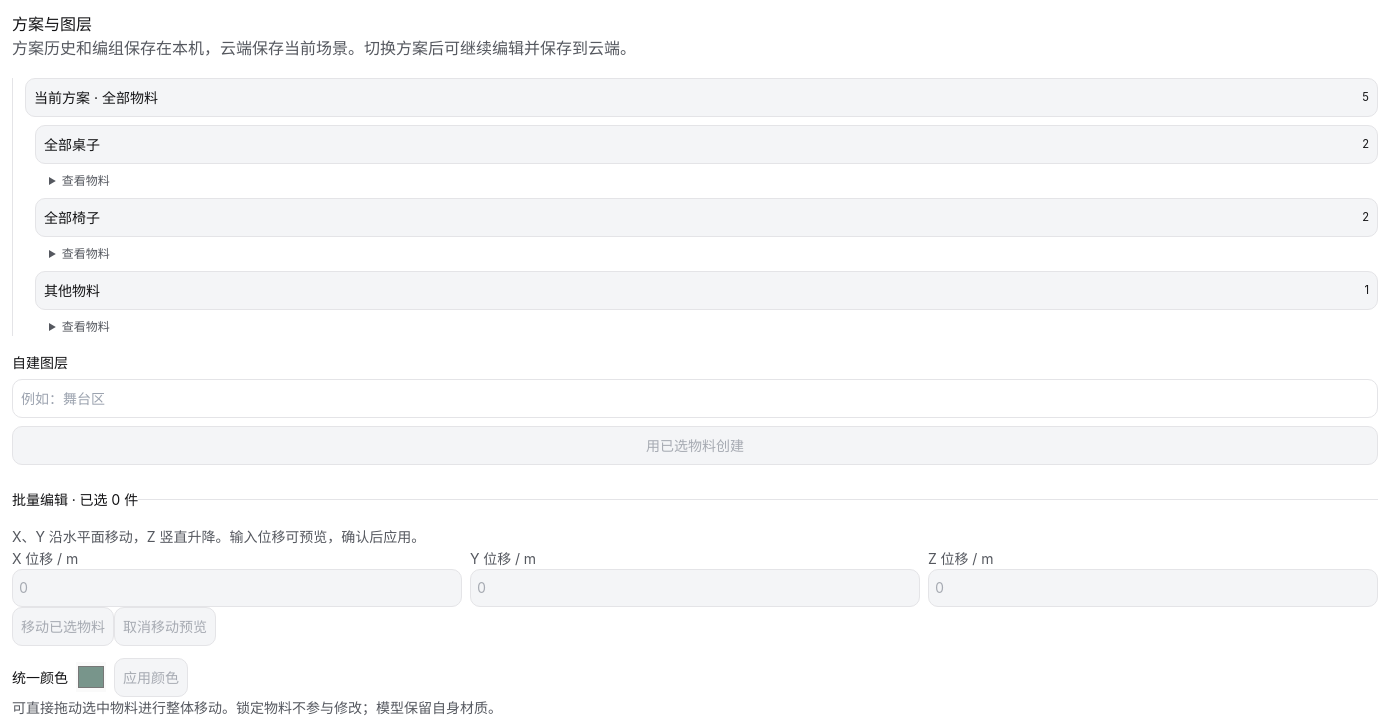
Test: previews horizontal Y and vertical Z without saving, then applies the displayed displacement once
Step 1. Click the button "全部椅子 2" → (72, 217), box [35,198,1378,237]
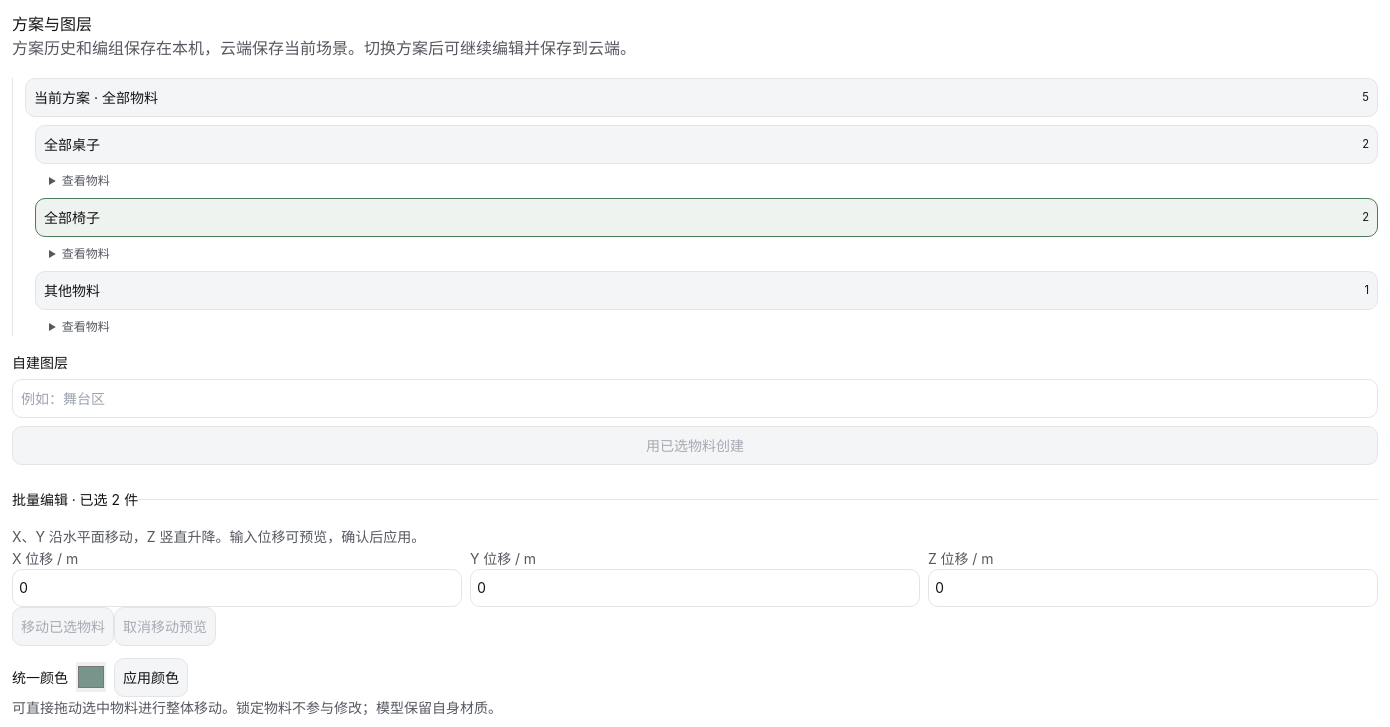
Step 2. Replace the text in the number field named "图层 Y 位移" with "0.2" → (695, 588), box [470,569,920,607]
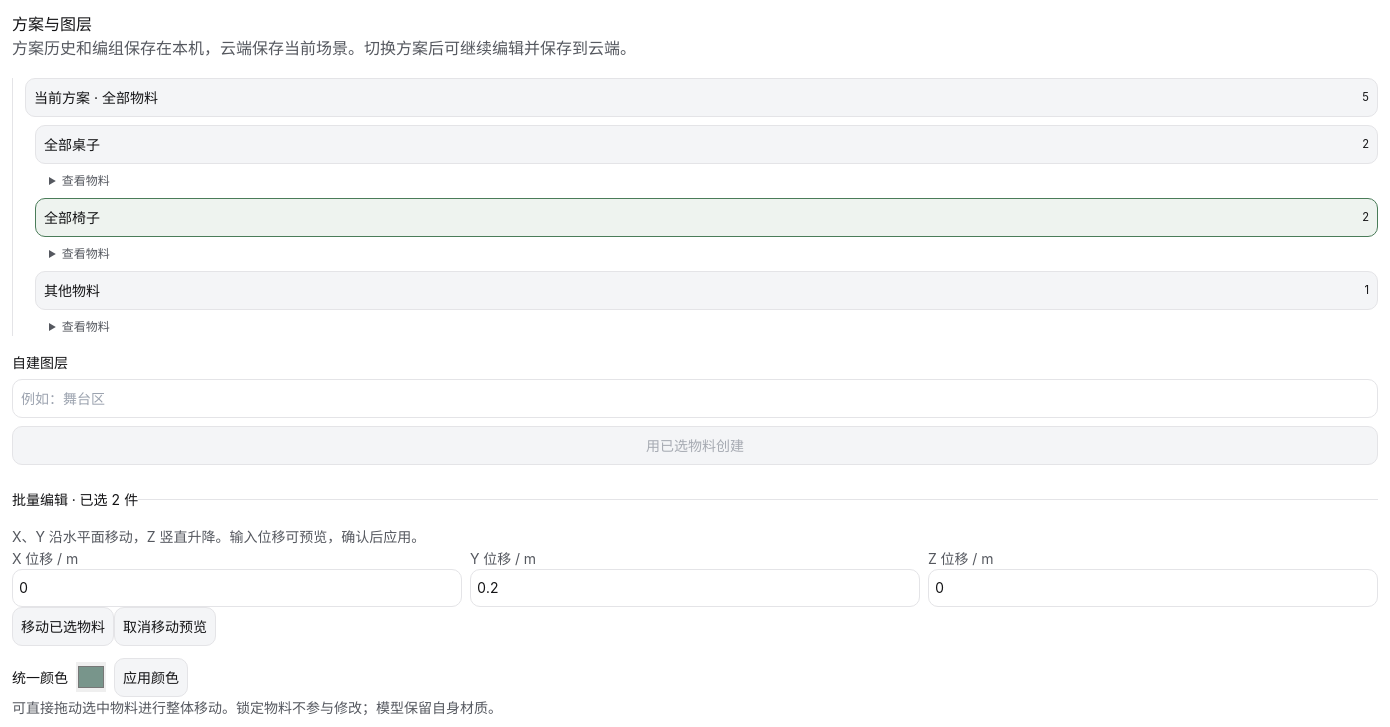
Step 3. Replace the text in the number field named "图层 Z 位移" with "0.5" → (1153, 588), box [928,569,1378,607]
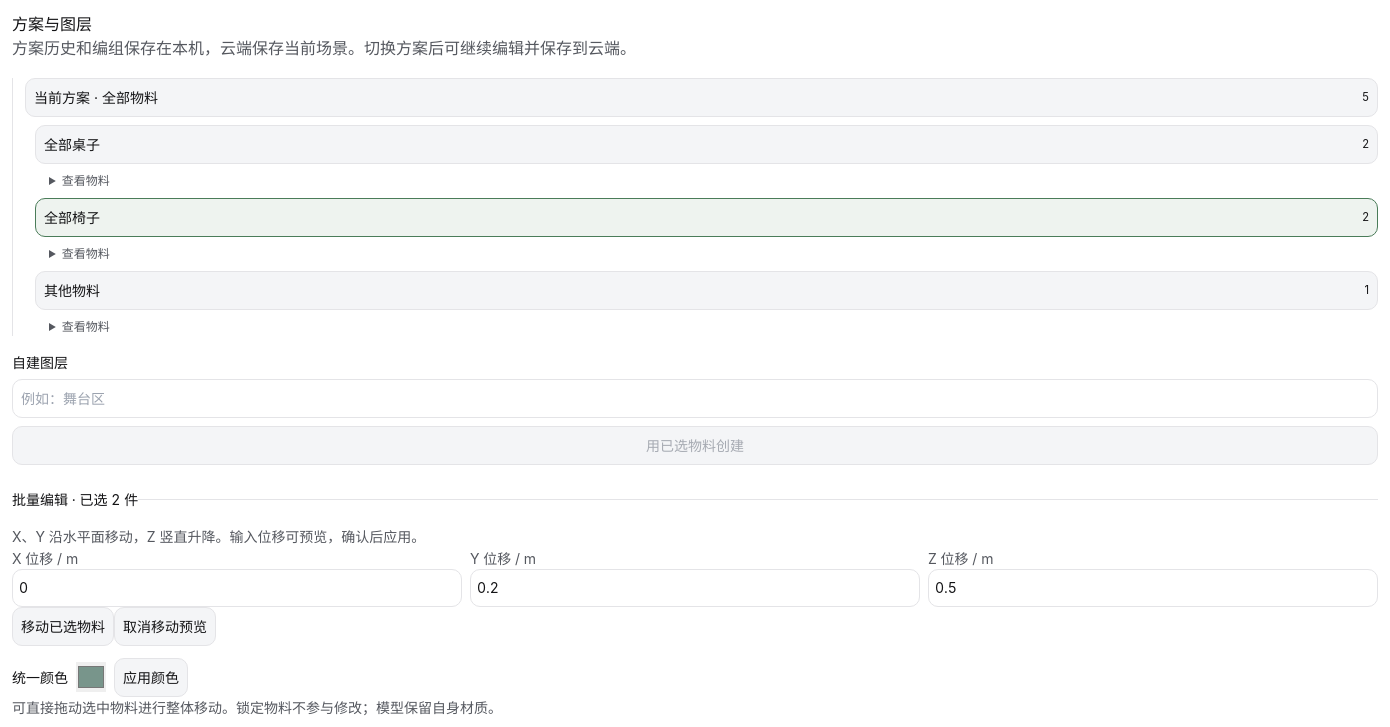
Step 4. Click the button "移动已选物料" → (63, 626), box [12,607,114,646]
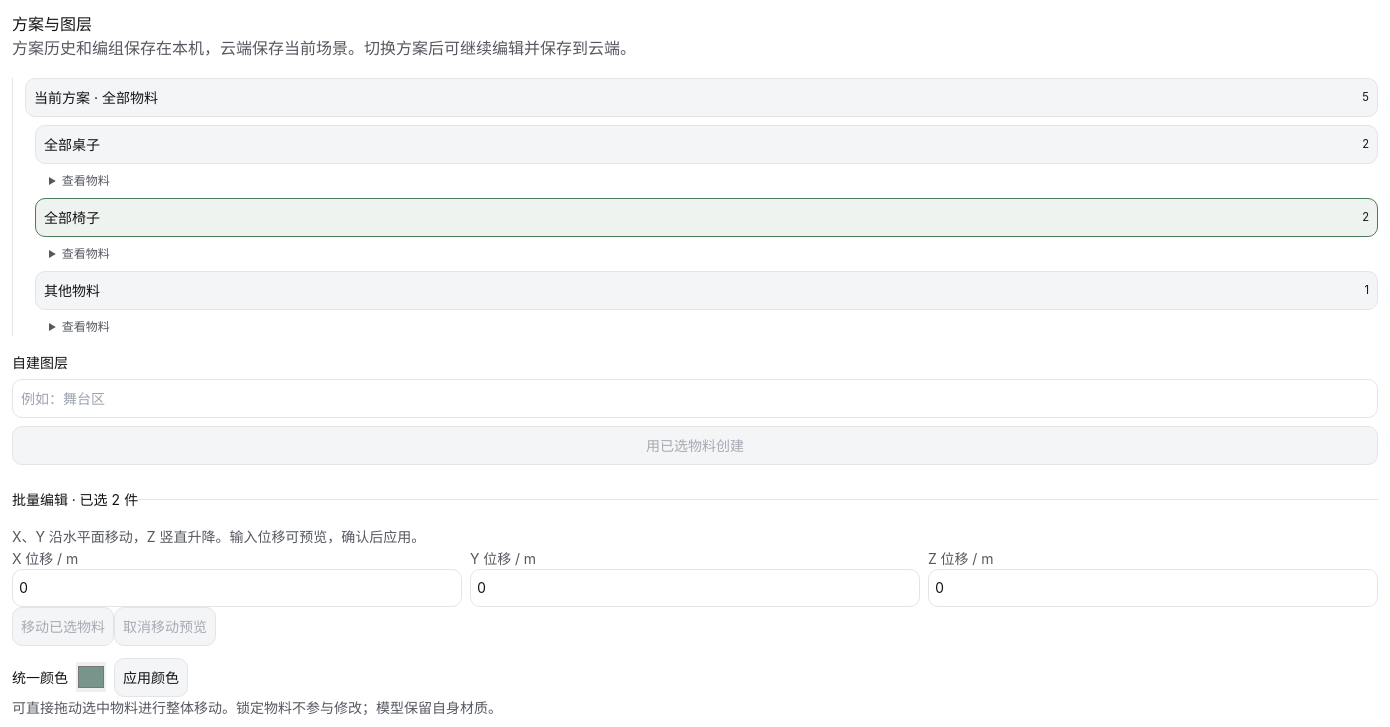
Expected: the number field named "图层 Y 位移" holds "0", [470,569,920,607]
Expected: the button "移动已选物料" is disabled, [12,607,114,646]
